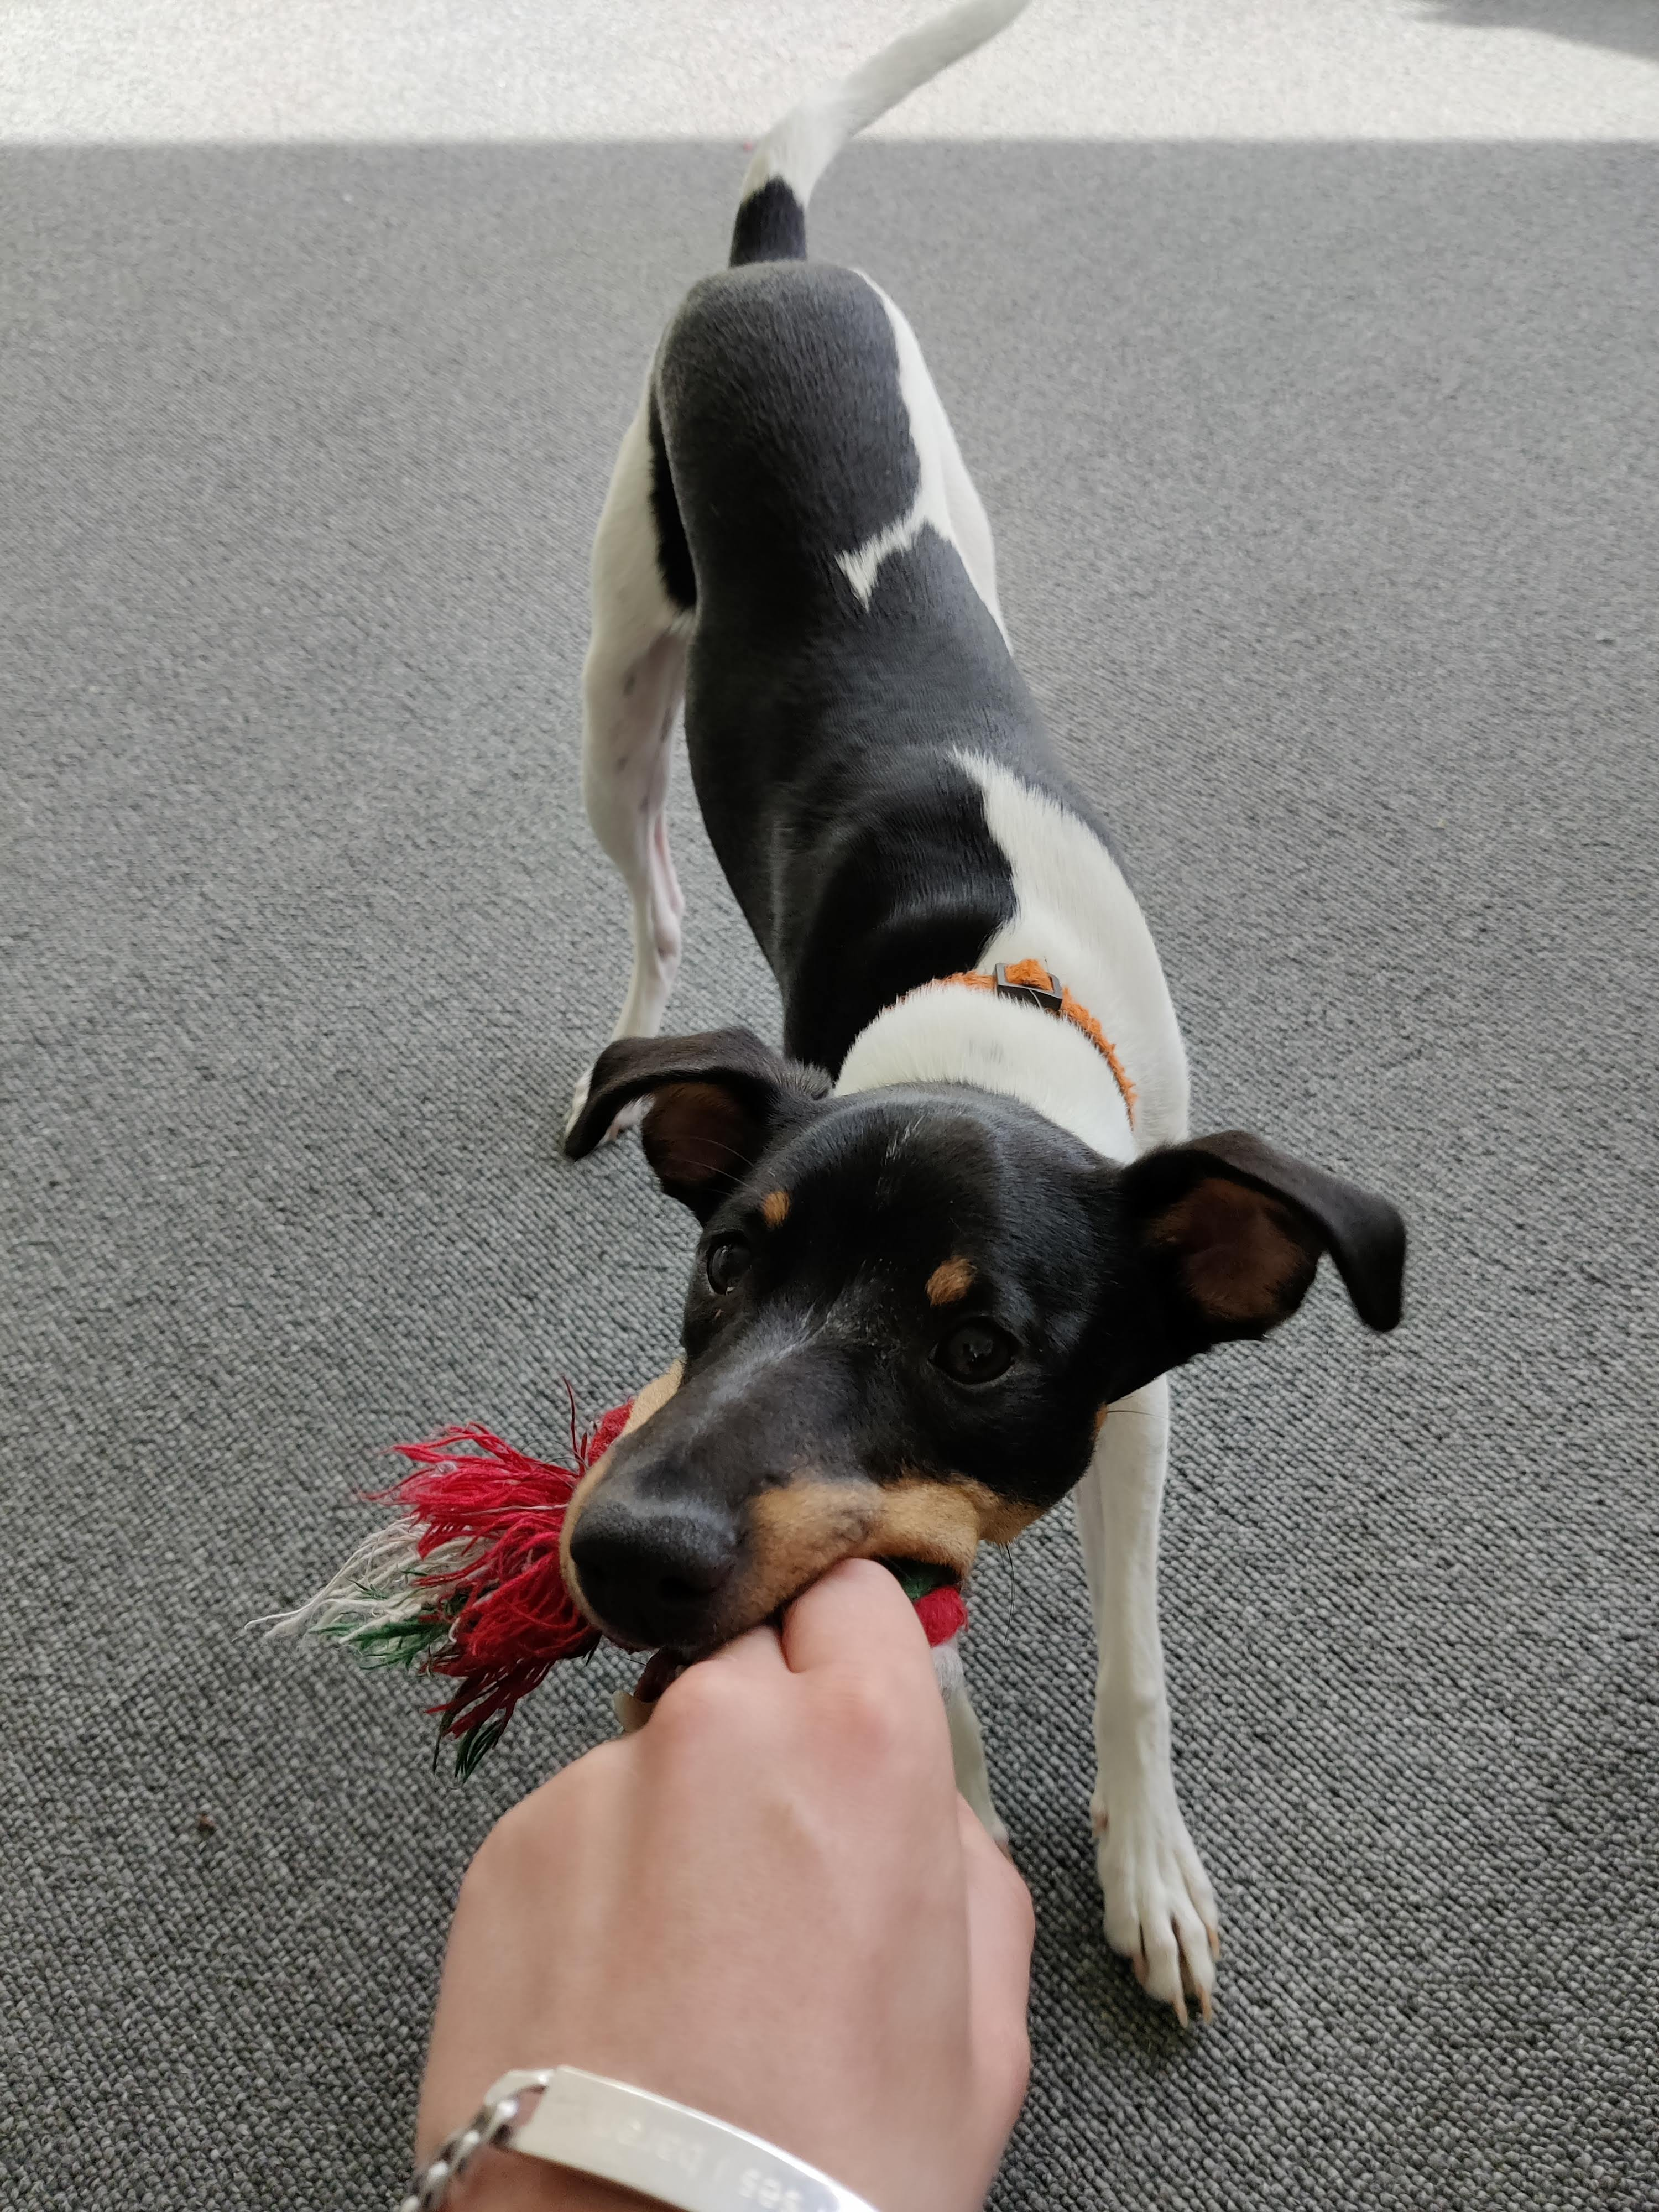Dog: (549, 0, 1412, 2043)
